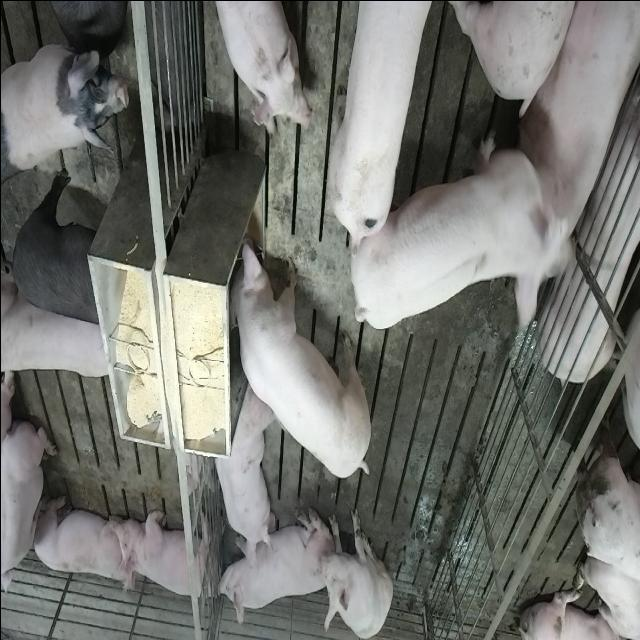Feeding: (220, 231, 368, 478)
Sitting: (314, 504, 392, 638)
Standing: (352, 123, 562, 330), (321, 0, 425, 250), (2, 36, 128, 176), (7, 171, 106, 329), (2, 278, 116, 372), (575, 432, 640, 588)
Sternal_lying: (541, 51, 640, 388), (511, 0, 640, 257), (213, 503, 324, 631), (208, 0, 310, 136), (210, 383, 272, 564), (3, 410, 57, 604), (30, 491, 130, 589), (118, 505, 215, 603)
